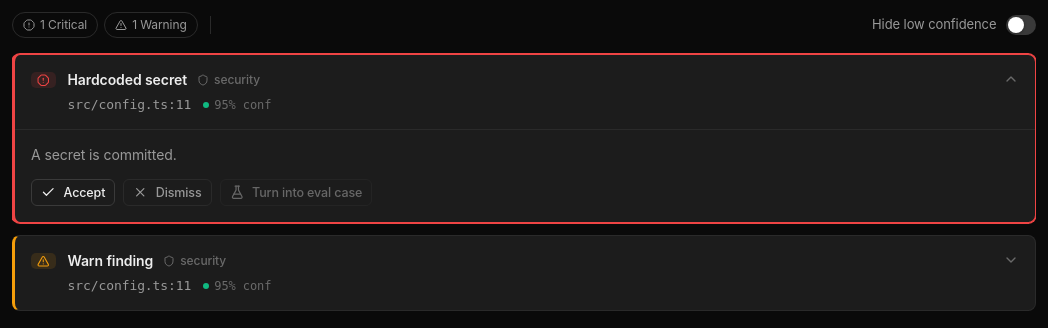
it: FindingsPanel (smoke) › filters by severity when a pill is clicked
Expected: the text "Hardcoded secret" is shown, [68, 69, 187, 90]
Expected: the text "Warn finding" is shown, [68, 250, 153, 271]
# Click CRITICAL pill
Click the button "1 Critical".
click(55, 25)  # box [12, 12, 98, 38]
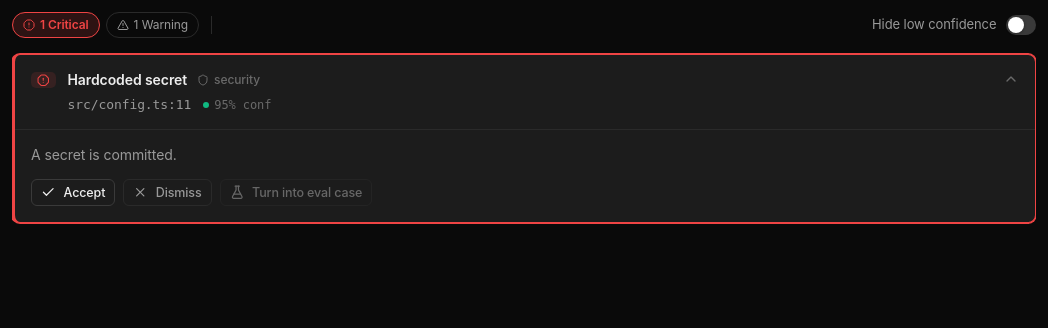
Expected: the text "Hardcoded secret" is shown, [68, 69, 187, 90]
Expected: the text "Warn finding" is gone
# Click again → reset
Click the button "1 Critical".
click(56, 25)  # box [12, 12, 100, 38]
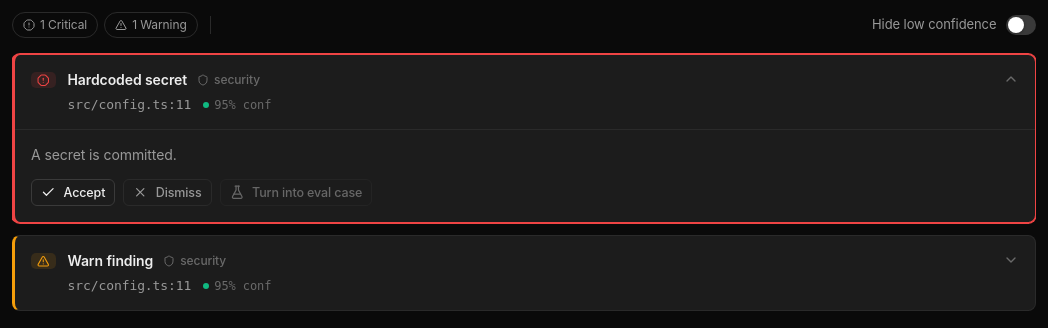
Expected: the text "Warn finding" is shown, [68, 250, 153, 271]
